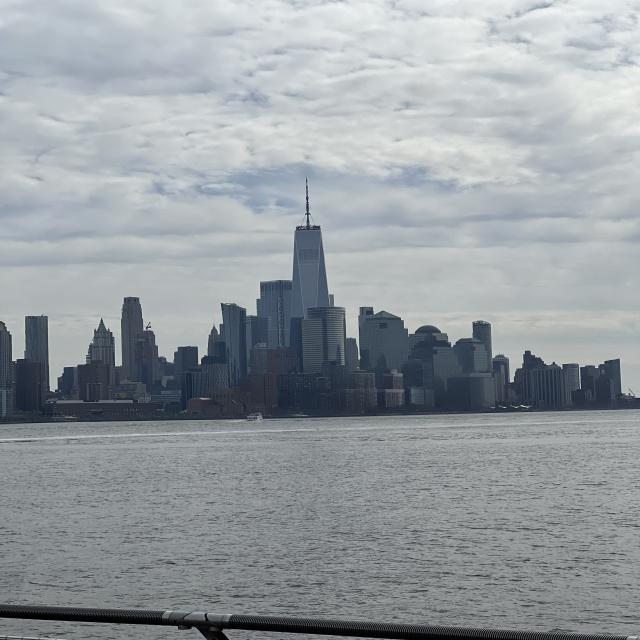WTC: (288, 182, 332, 310)
